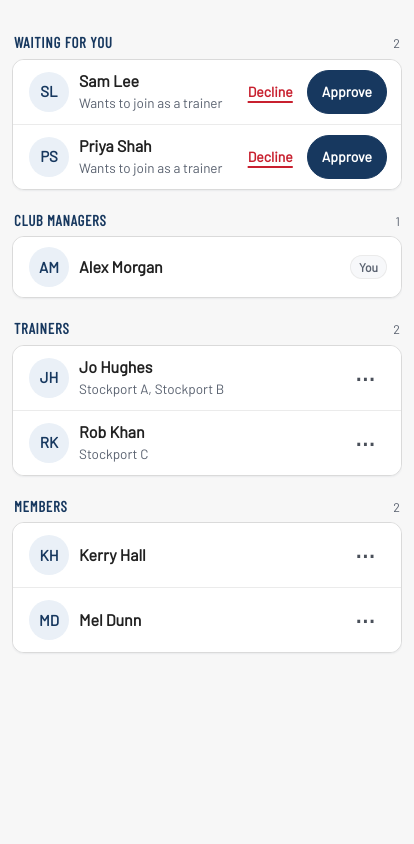
Test case: MembersPage: waiting for you › shows the server’s reason, such as an address that isn’t confirmed yet
This screenshot has width=414, height=844.
Click the button with aria-label "Approve Sam Lee": {"x": 347, "y": 92} left=307, top=70, right=387, bottom=114
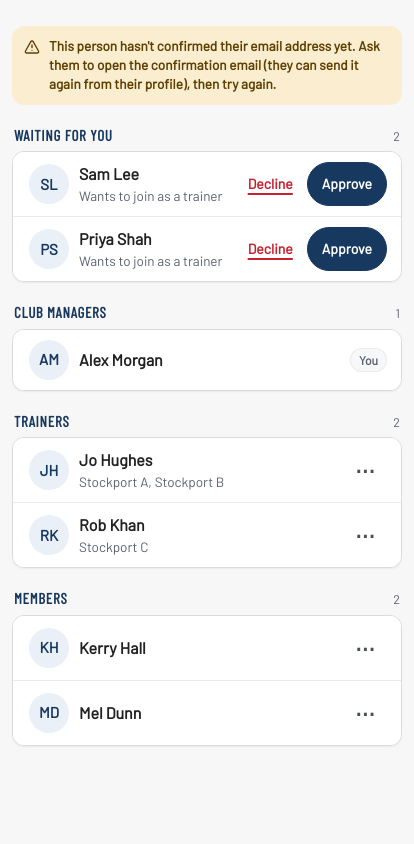
Check: the message shows "This person hasn't confirmed their email address yet. Ask them to open the confirmation email (they can send it again from their profile), then try again.", box left=49, top=37, right=380, bottom=92
